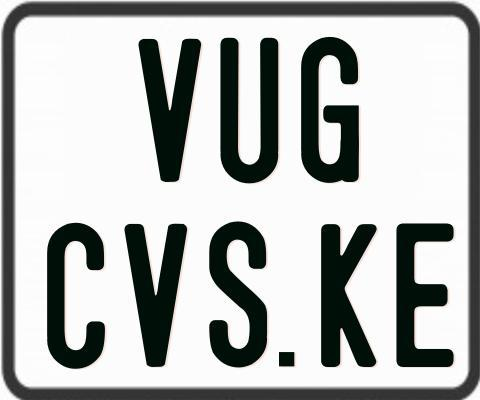C: (45, 223, 106, 370)
E: (395, 223, 456, 370)
G: (300, 34, 359, 184)
K: (318, 222, 376, 368)
S: (209, 219, 270, 367)
U: (218, 38, 278, 185)
V: (138, 36, 204, 182), (124, 221, 187, 366)
